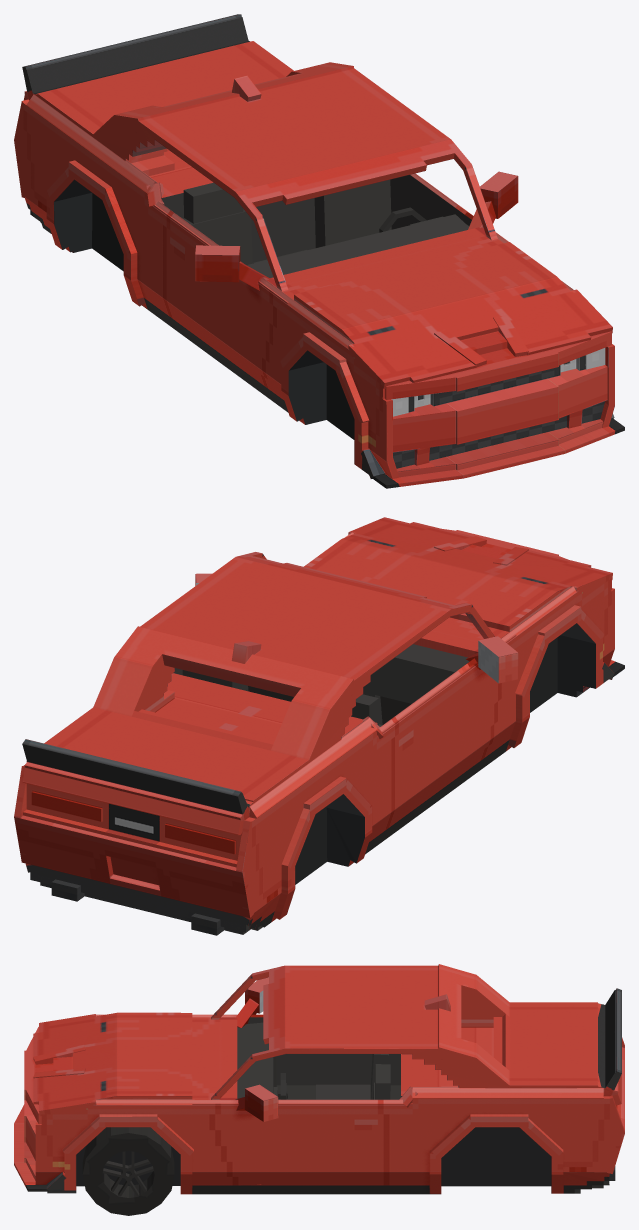
File: Dodge 1.fbx
The picture shows the model from 3 angles, top to bottom: view 1: azimuth 30°, elevation 25°; view 2: azimuth 150°, elevation 25°; view 3: azimuth 270°, elevation 25°; orthographic projection. The views are drawn at different scales.
Visible parts, largest first — view 1: dodge_body; view 2: dodge_body; view 3: dodge_body, dodge_wheel.
Boxes of the visible parts, x1,y1,x2,y2 form: dodge_body: (14, 14, 624, 488); dodge_body: (14, 517, 624, 935); dodge_body: (14, 964, 624, 1194); dodge_wheel: (82, 1127, 174, 1215).
Size of what is drawn, in the model's own units: 220 by 142 by 455.
